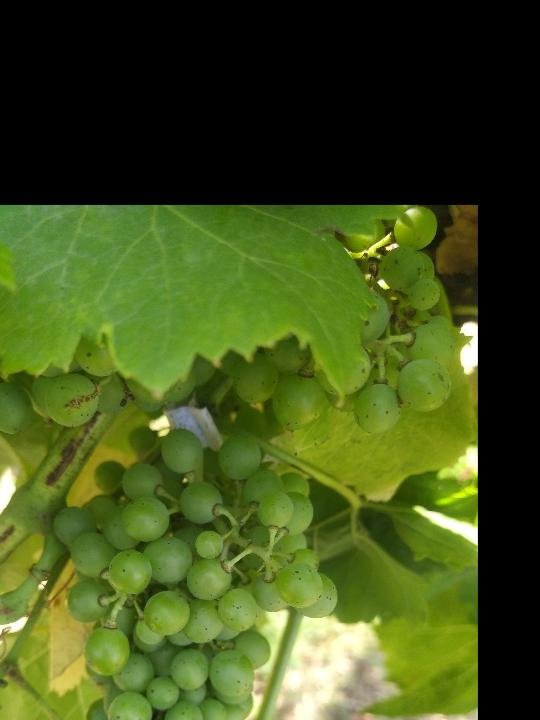grape: (55, 423, 342, 720)
